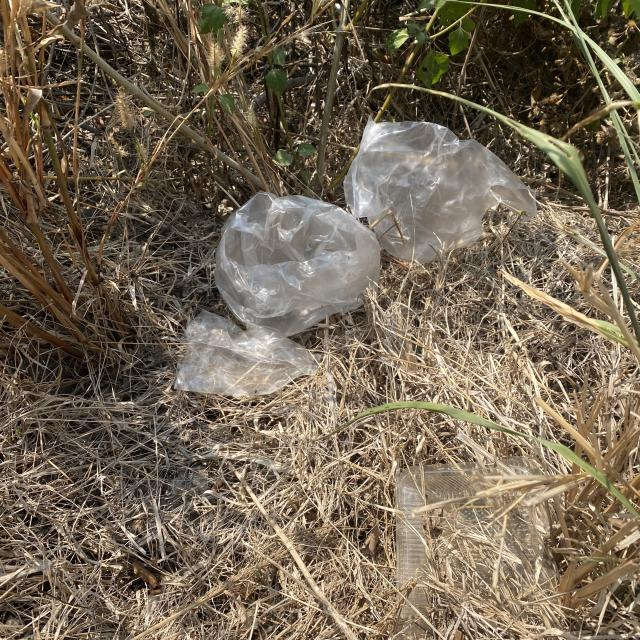Single-layer Plastic: (344, 119, 536, 262), (215, 192, 380, 336), (175, 311, 318, 396)
